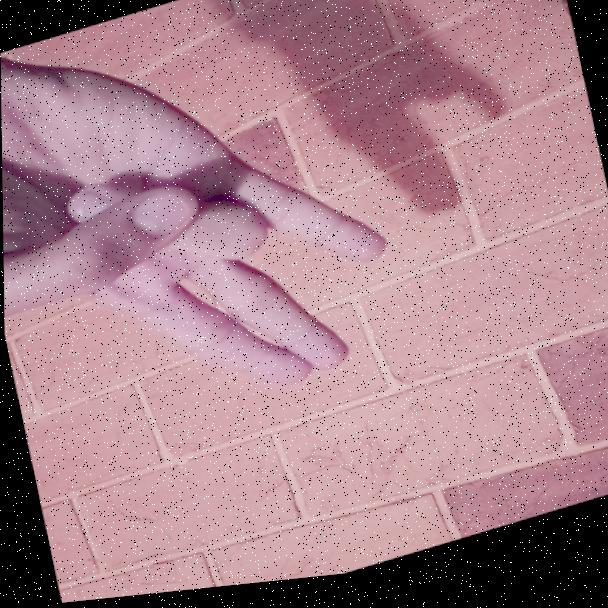five: (0, 2, 425, 473)
